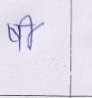i_matra: (23, 14, 36, 49)
